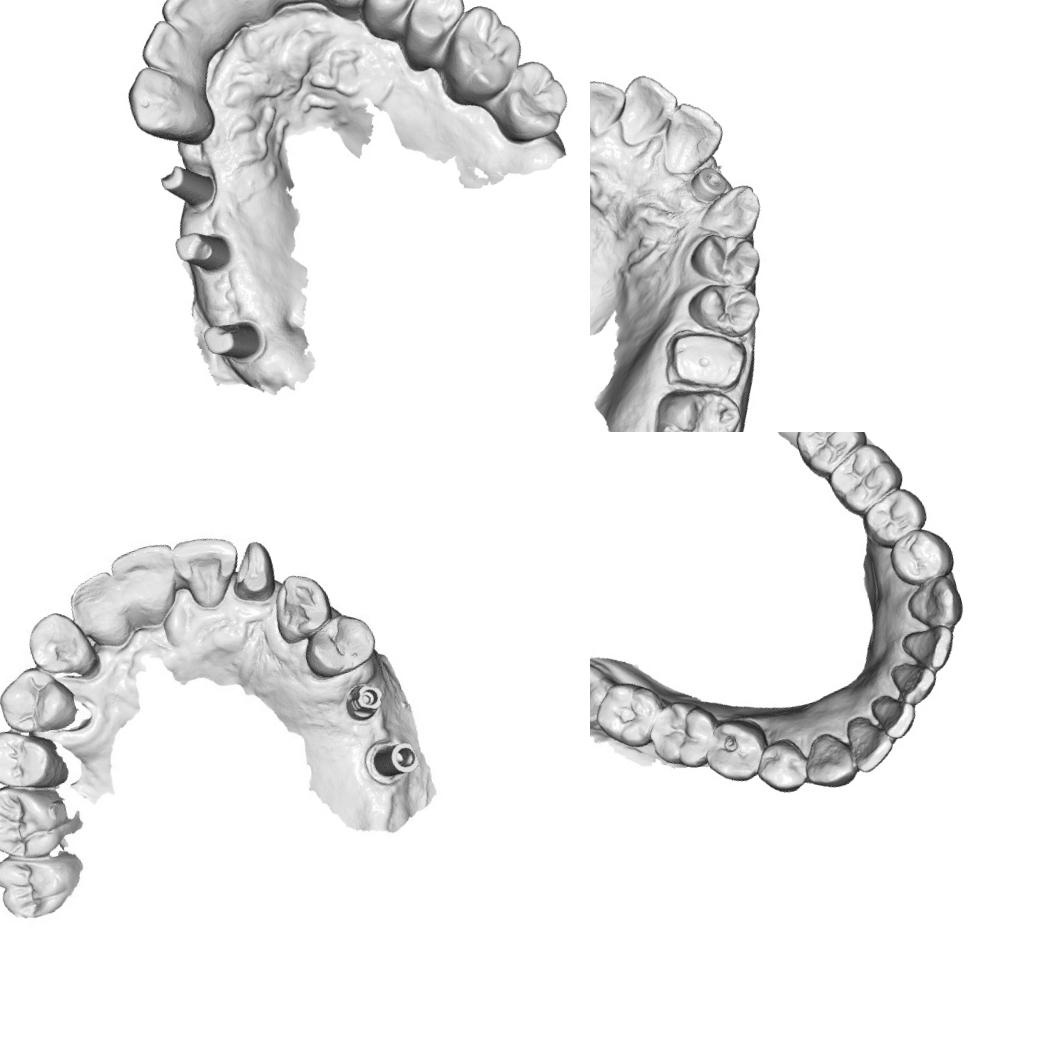abutment: (190, 306, 268, 373), (150, 155, 222, 219), (167, 221, 238, 281)
canine: (118, 53, 208, 145), (19, 604, 102, 694), (258, 563, 337, 649), (696, 180, 768, 246), (796, 727, 863, 796), (902, 572, 964, 634)
crown: (660, 318, 756, 402), (218, 532, 294, 610)
implant: (361, 728, 425, 788), (335, 675, 391, 725), (685, 161, 734, 206)
incisor: (110, 535, 195, 634), (65, 564, 144, 664), (652, 94, 730, 174), (173, 528, 248, 609), (612, 68, 684, 144), (131, 11, 193, 79), (897, 620, 959, 678), (842, 712, 898, 775), (886, 653, 943, 711), (868, 686, 923, 746), (150, 0, 231, 40), (590, 71, 633, 133), (202, 0, 284, 21)
molar: (440, 0, 529, 95), (0, 839, 95, 926), (490, 51, 576, 144), (820, 436, 909, 520), (640, 694, 724, 779), (0, 775, 72, 868), (646, 373, 754, 432), (590, 672, 666, 754), (788, 432, 873, 483)
premolar: (0, 652, 86, 743), (681, 220, 768, 300), (0, 714, 75, 804), (682, 272, 768, 349), (696, 711, 775, 790), (302, 608, 380, 678), (859, 484, 930, 550), (884, 524, 956, 588), (392, 0, 472, 53), (749, 733, 810, 800), (358, 0, 430, 24)
